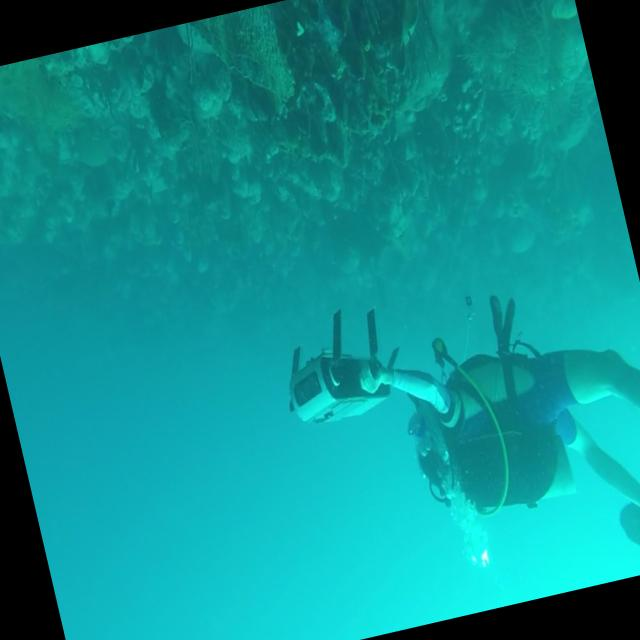human: (346, 260, 640, 621)
